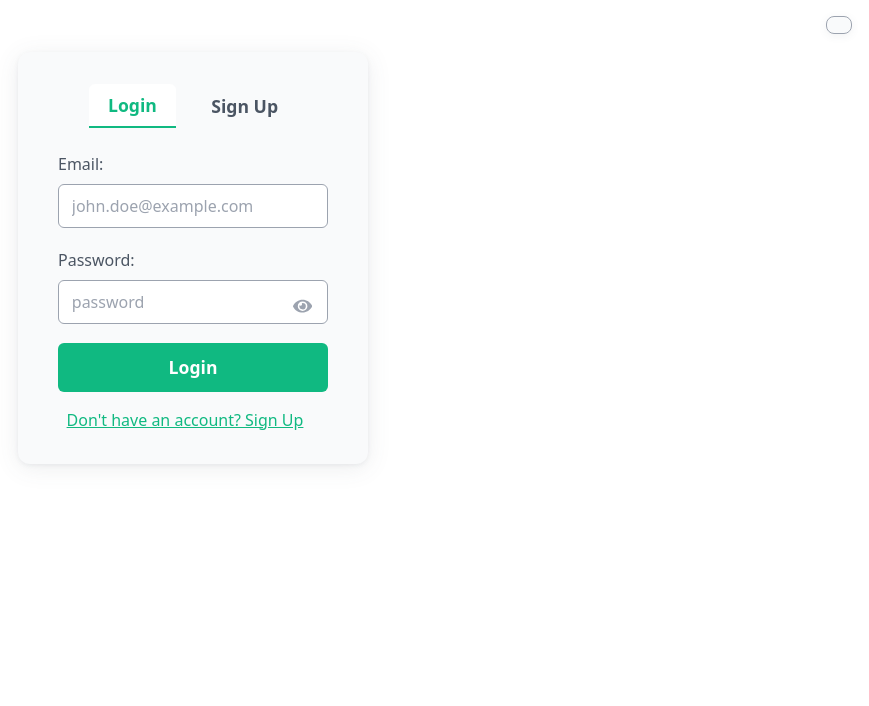
Test: App Component › shows password requirements validation in signup form
Click the button "Sign Up".
click(245, 106)  # box left=192, top=84, right=297, bottom=128
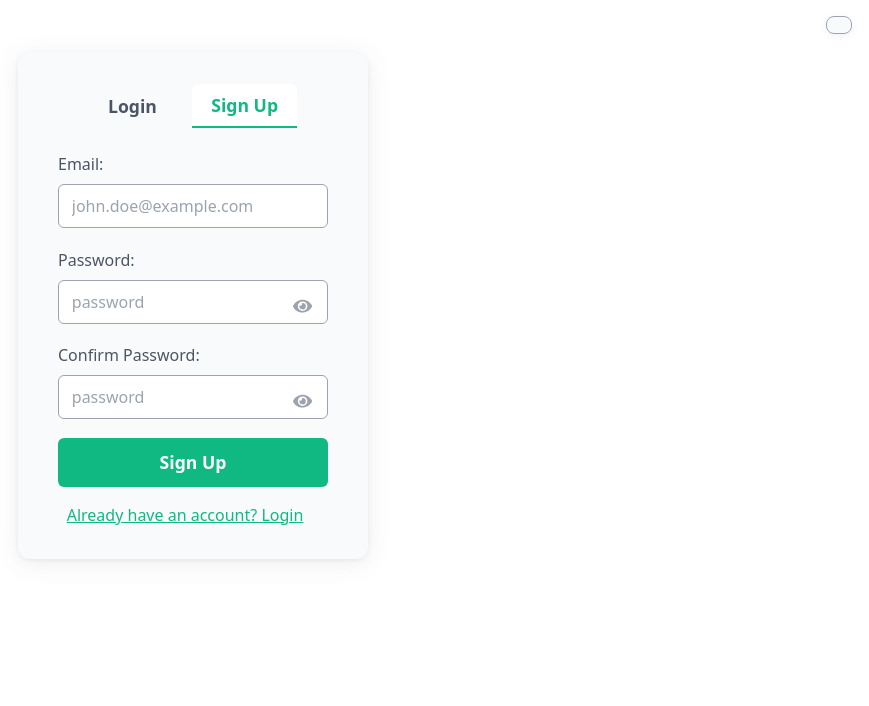
Focus on password field to show requirements
Focus the password field with id "signup-password" at point(193, 302), box left=58, top=280, right=328, bottom=324
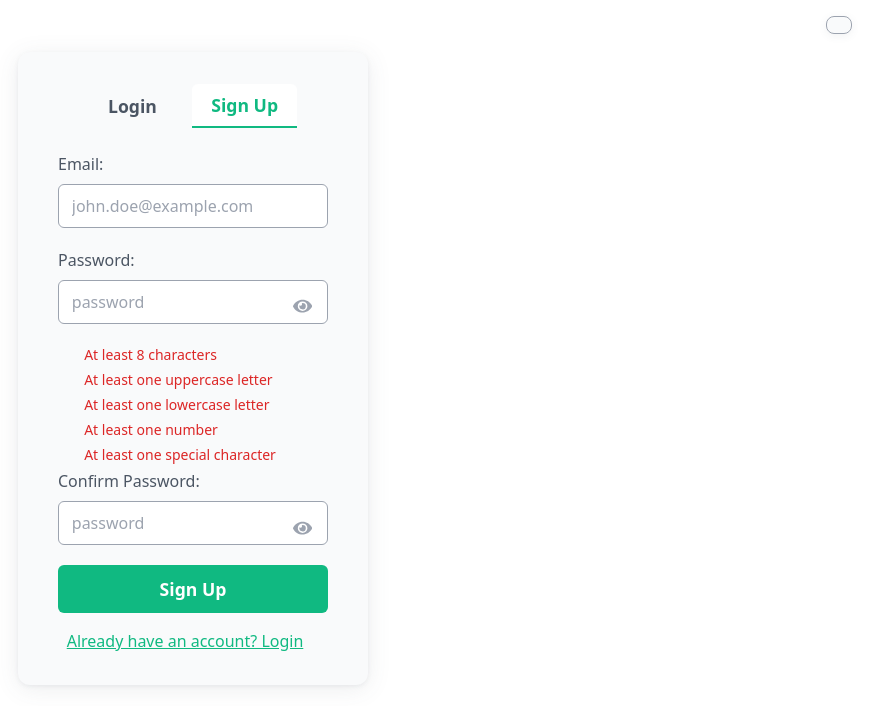
Expected: the list item "At least 8 characters" is shown, left=84, top=345, right=217, bottom=364
Expected: the list item "At least one uppercase letter" is shown, left=84, top=370, right=273, bottom=389
Expected: the list item "At least one lowercase letter" is shown, left=84, top=395, right=270, bottom=414
